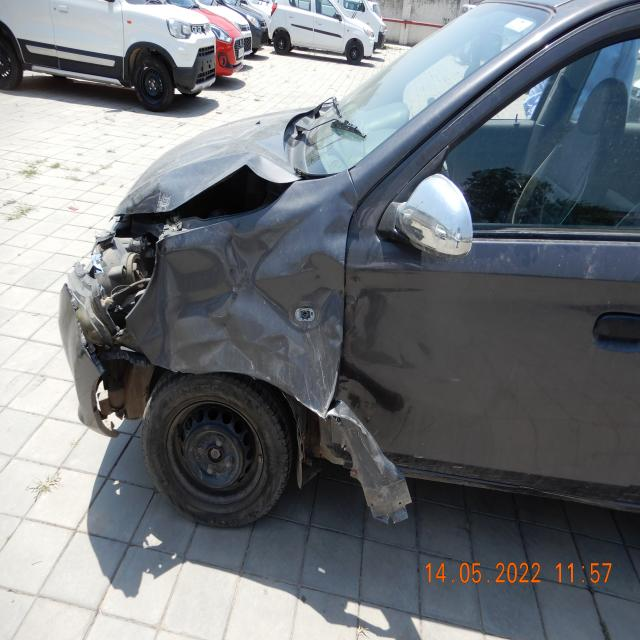damage: (162, 186, 348, 409), (128, 119, 279, 211), (350, 276, 424, 429), (64, 293, 92, 378)
